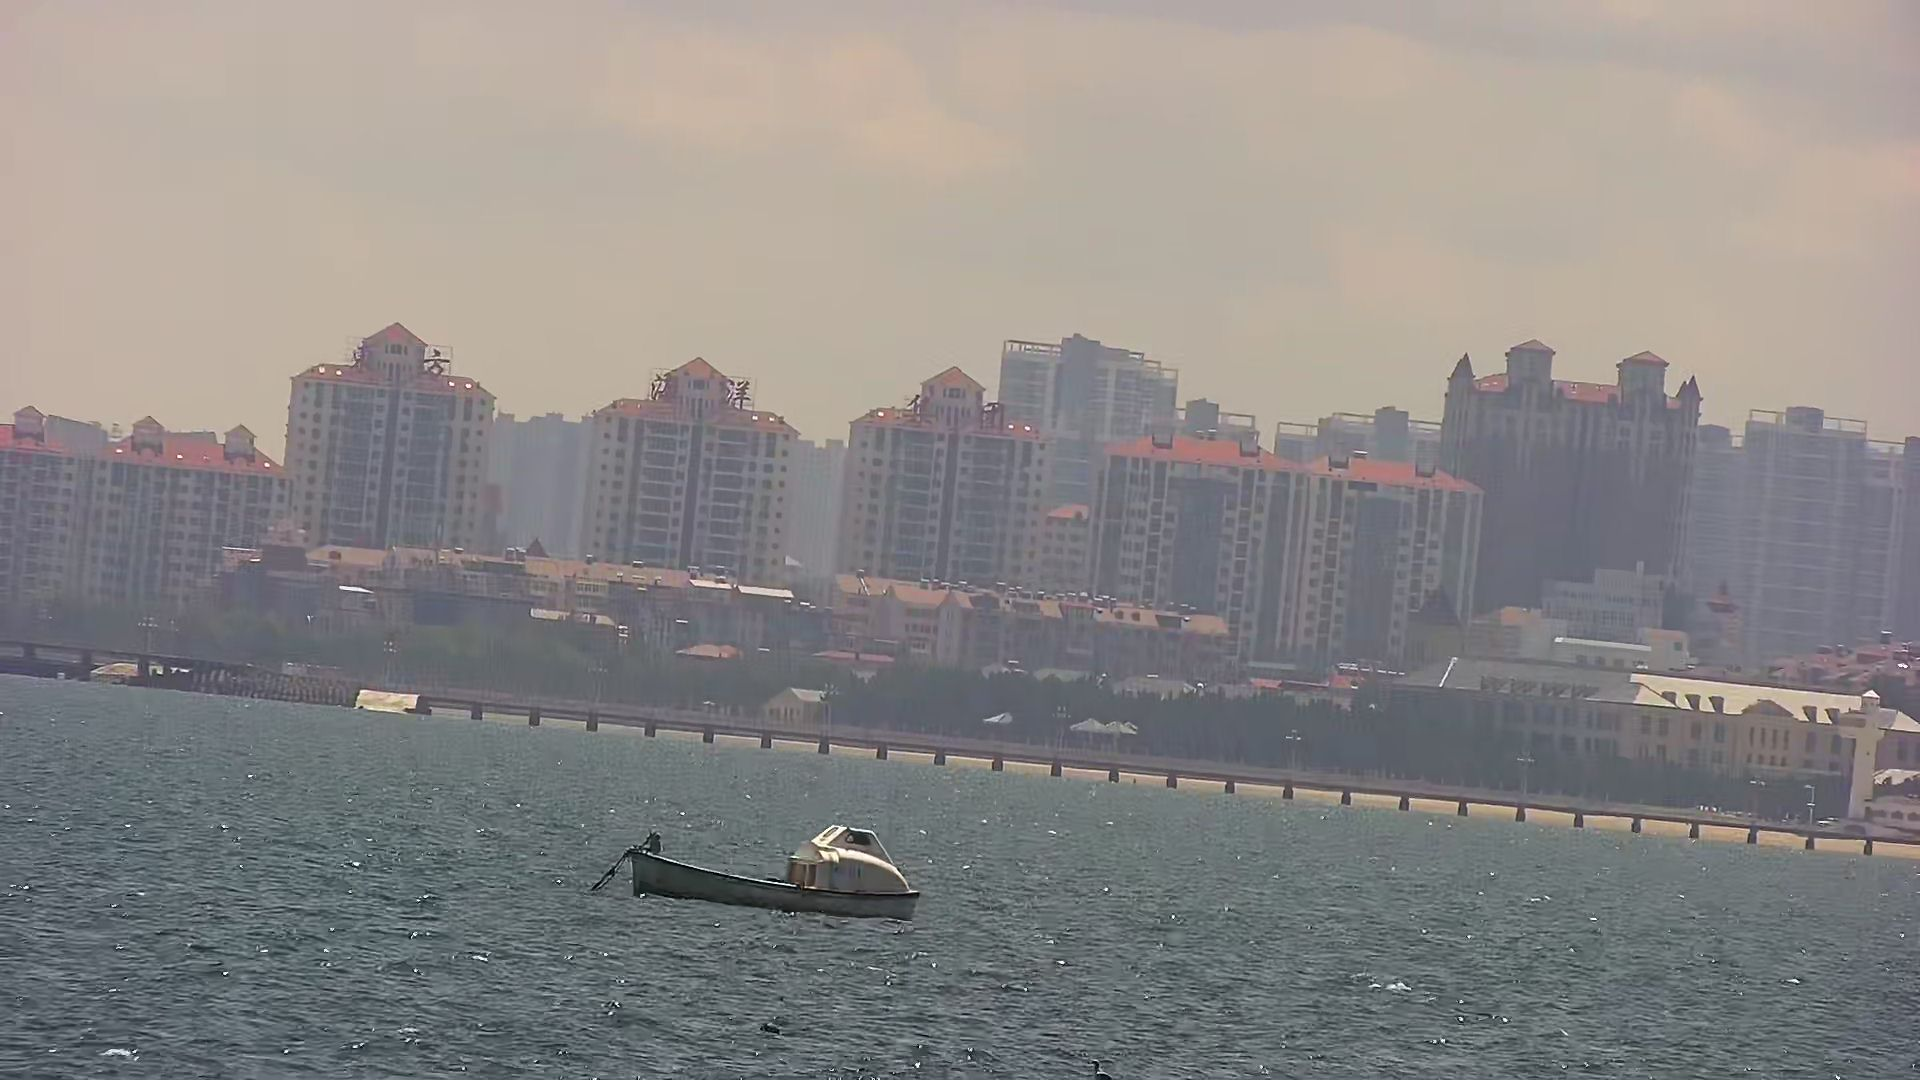boat: (596, 814, 928, 928)
bridge: (386, 684, 1920, 868)
